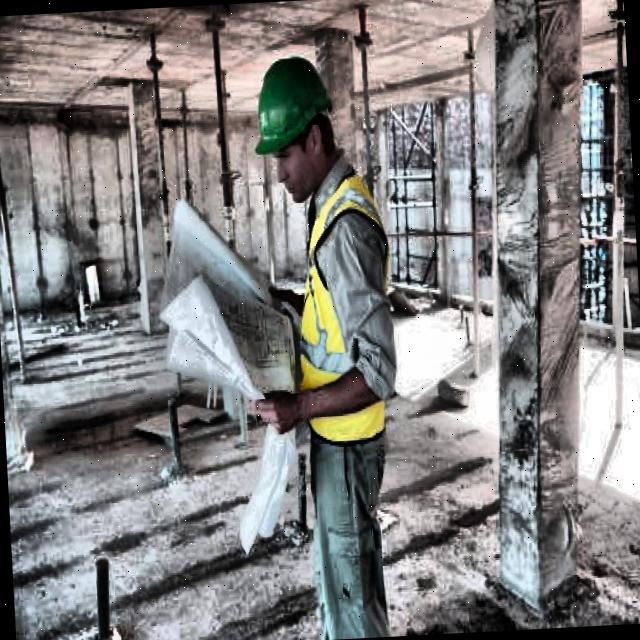helmet: (244, 37, 349, 213)
